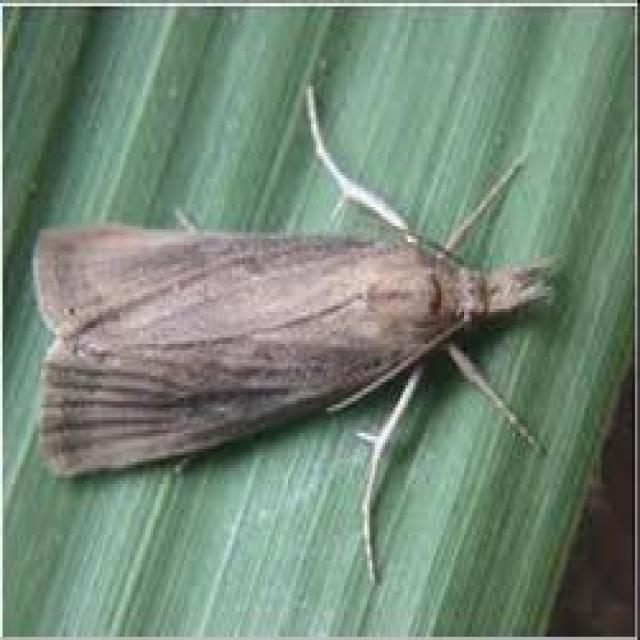yellow-stem-borer: (15, 134, 585, 530)
